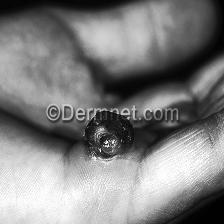Benign Marking or Mole: (85, 112, 136, 164)
